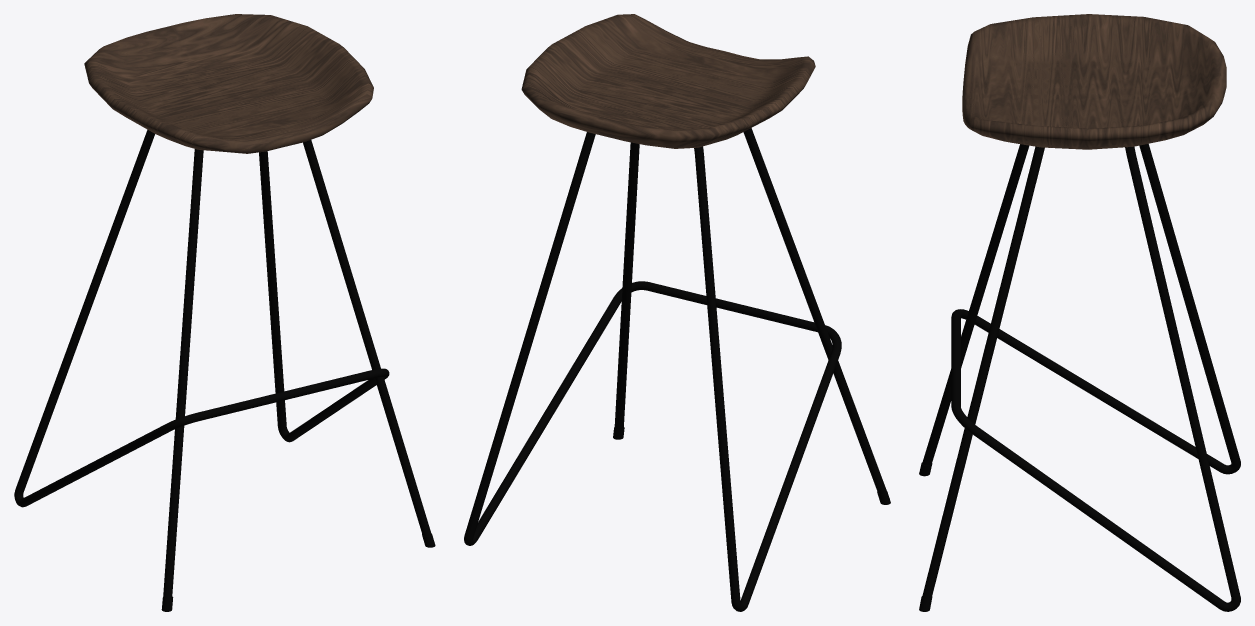
File: CGT_Barstool_010.glb
The picture shows the model from 3 angles, left to right: view 1: azimuth 30°, elevation 25°; view 2: azimuth 150°, elevation 25°; view 3: azimuth 270°, elevation 25°; orthographic projection. The views are drawn at different scales.
Parts seen in each view (by area): view 1: CGT_Barstool_010; view 2: CGT_Barstool_010; view 3: CGT_Barstool_010.
Part boxes in pixels (x1,y1,x2,y2): CGT_Barstool_010: (14,14,435,611); CGT_Barstool_010: (464,14,890,611); CGT_Barstool_010: (919,14,1240,611).
Size of the model in its own units: 0.4516 by 0.7059 by 0.4342.
Materials: 2 (1 with a texture image).
